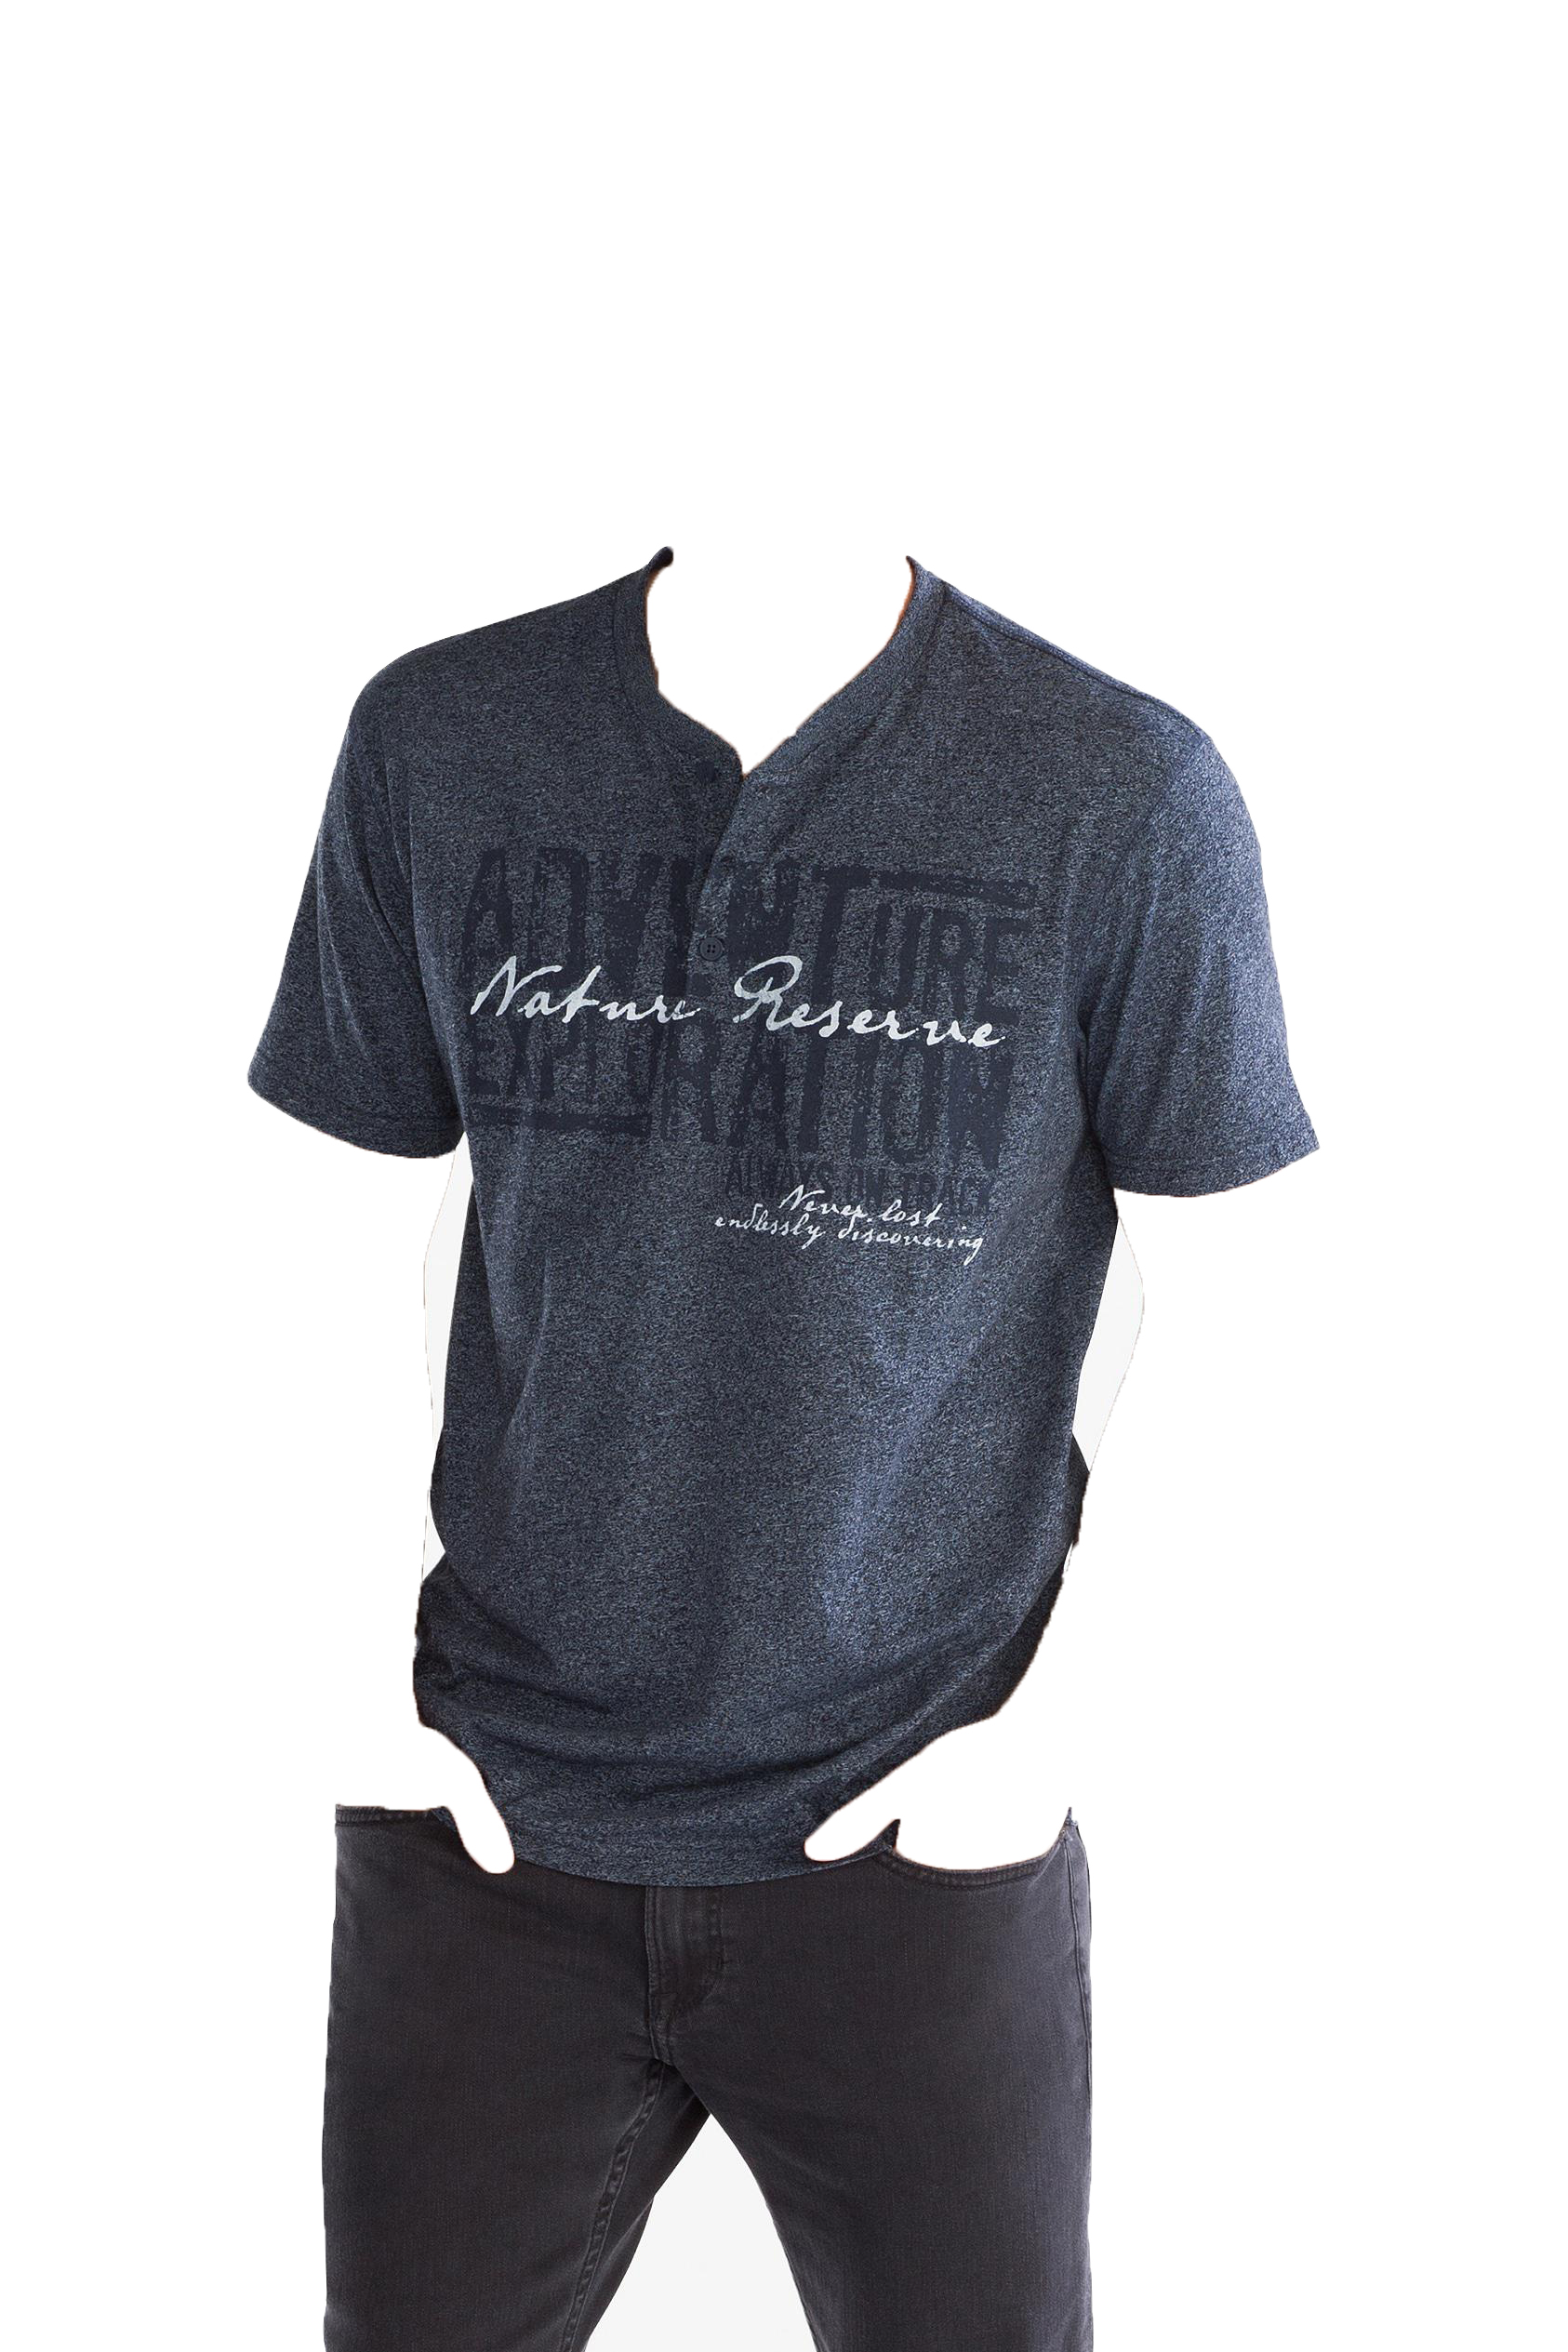teeshirt: (252, 528, 1314, 1899)
